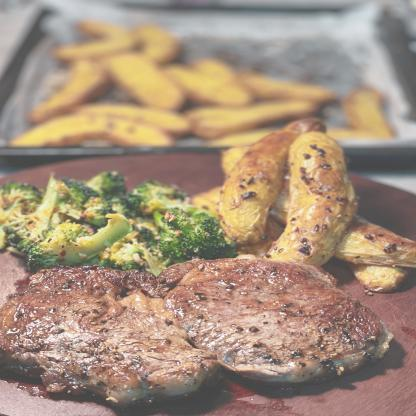Carne: (159, 252, 407, 393), (1, 263, 213, 406)
